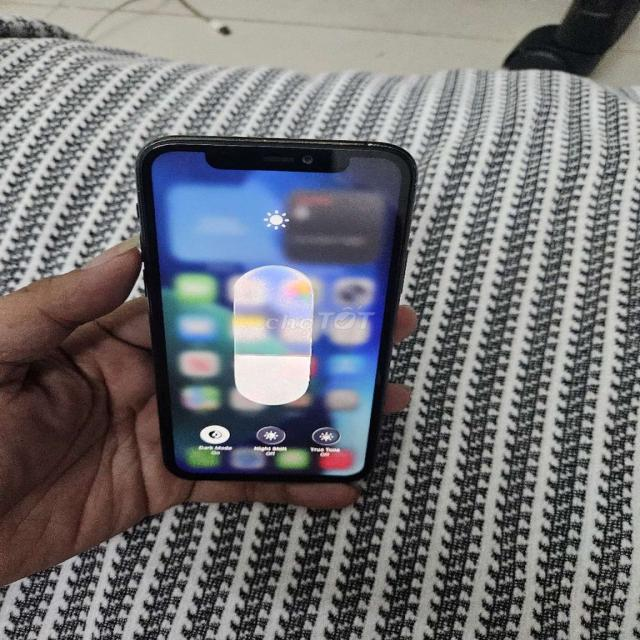gen_11: (120, 131, 409, 486)
scratch: (184, 136, 405, 156), (130, 141, 163, 159)
